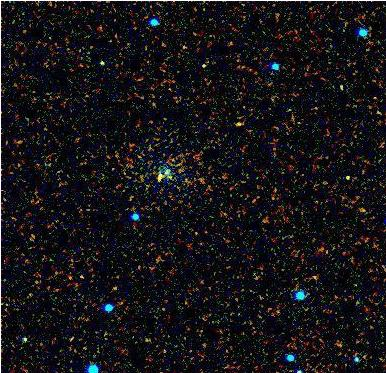star: (143, 160, 173, 190)
